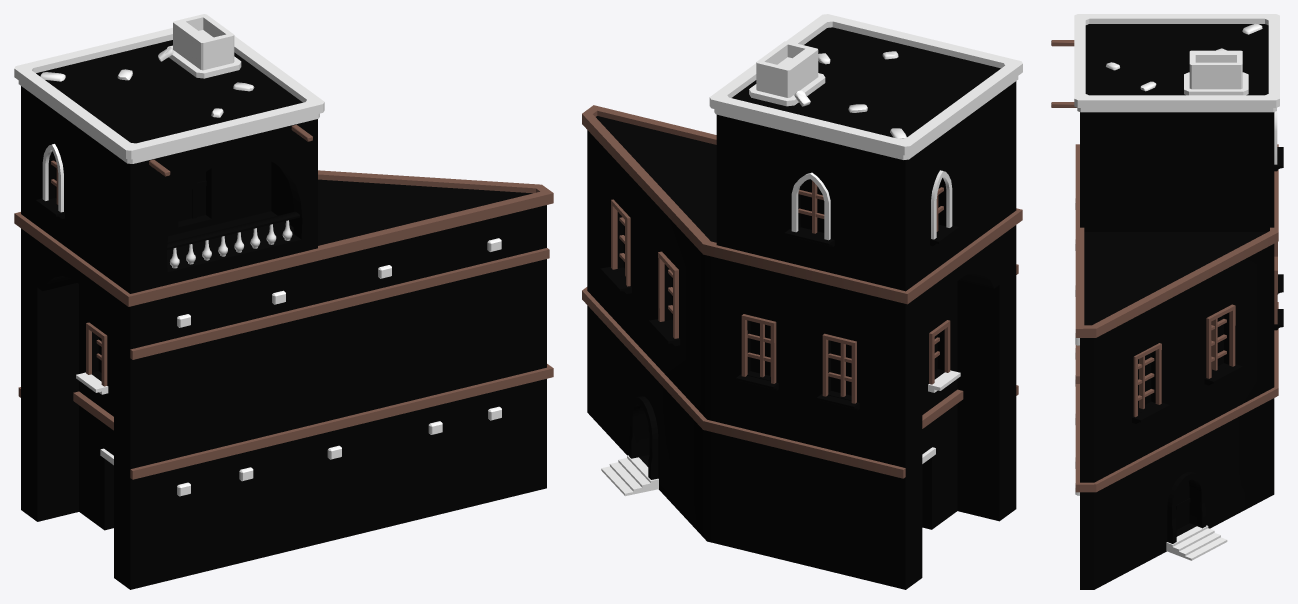
The model's file is civilian_house_03.FBX.
3 views of the same model, side by side, from view 1: azimuth 30°, elevation 25°; view 2: azimuth 150°, elevation 25°; view 3: azimuth 270°, elevation 25° (orthographic). The views are drawn at different scales.
Parts seen in each view (by area): view 1: civilian_house_03_LOD0; view 2: civilian_house_03_LOD0; view 3: civilian_house_03_LOD0.
Boxes of the visible parts, <box> form: civilian_house_03_LOD0: <box>14,14,553,589</box>; civilian_house_03_LOD0: <box>582,14,1022,589</box>; civilian_house_03_LOD0: <box>1051,14,1283,589</box>.
Size of what is drawn, in the model's own units: 1548 by 1614 by 814.
